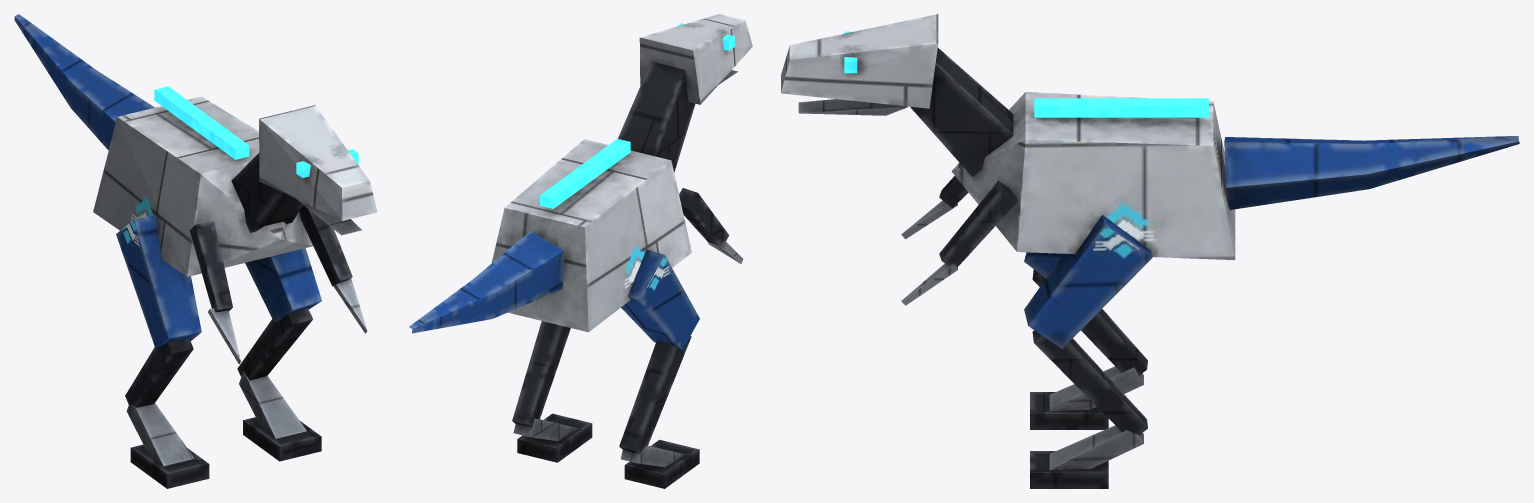
The model's file is s_raptor_w.glb.
3 renders of one model, left to right at view 1: azimuth 30°, elevation 25°; view 2: azimuth 150°, elevation 25°; view 3: azimuth 270°, elevation 25°, orthographic. The views are drawn at different scales.
Parts seen in each view (by area): view 1: s_raptor_w; view 2: s_raptor_w; view 3: s_raptor_w.
Boxes of the visible parts, x1=… form: s_raptor_w: x1=14, y1=14, x2=377, y2=488; s_raptor_w: x1=409, y1=14, x2=752, y2=488; s_raptor_w: x1=781, y1=14, x2=1519, y2=488.
Bounding box in the file's own units: 0.484 × 1.17 × 1.86.
Materials: 1 (1 with a texture image).
